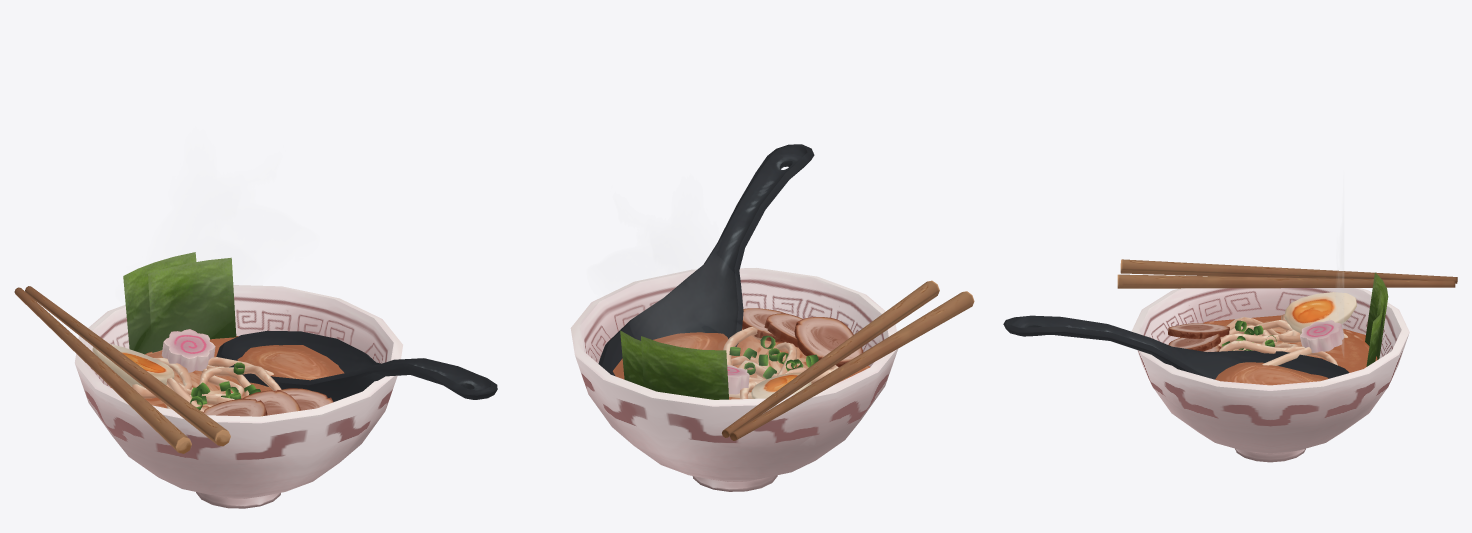
The model's file is ramen.glb.
3 views of the same model, side by side, from view 1: azimuth 30°, elevation 25°; view 2: azimuth 150°, elevation 25°; view 3: azimuth 270°, elevation 25° (orthographic). The views are drawn at different scales.
Parts seen in each view (by area): view 1: ramenbowlall_0; view 2: ramenbowlall_0; view 3: ramenbowlall_0.
Part boxes in pixels (bbox=[...]): ramenbowlall_0: bbox=[14, 252, 497, 508]; ramenbowlall_0: bbox=[570, 144, 974, 491]; ramenbowlall_0: bbox=[1003, 217, 1457, 462].
Size of the model in its own units: 0.806 by 0.8268 by 0.9635.
5 materials, 5 textured.
